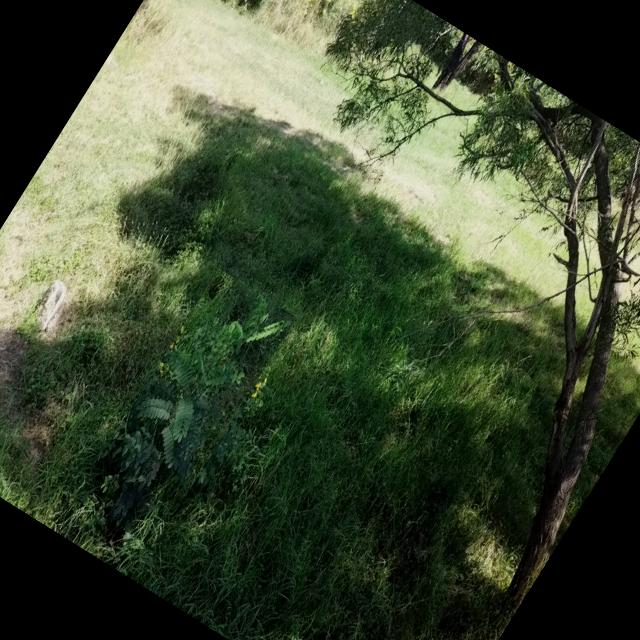Mysore-Thorn-Weed: (74, 268, 296, 548)
